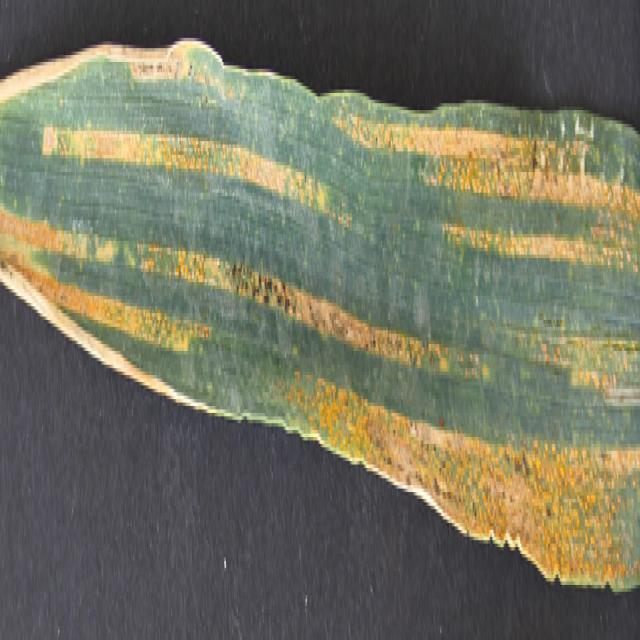leaf rust: (1, 31, 640, 578)
